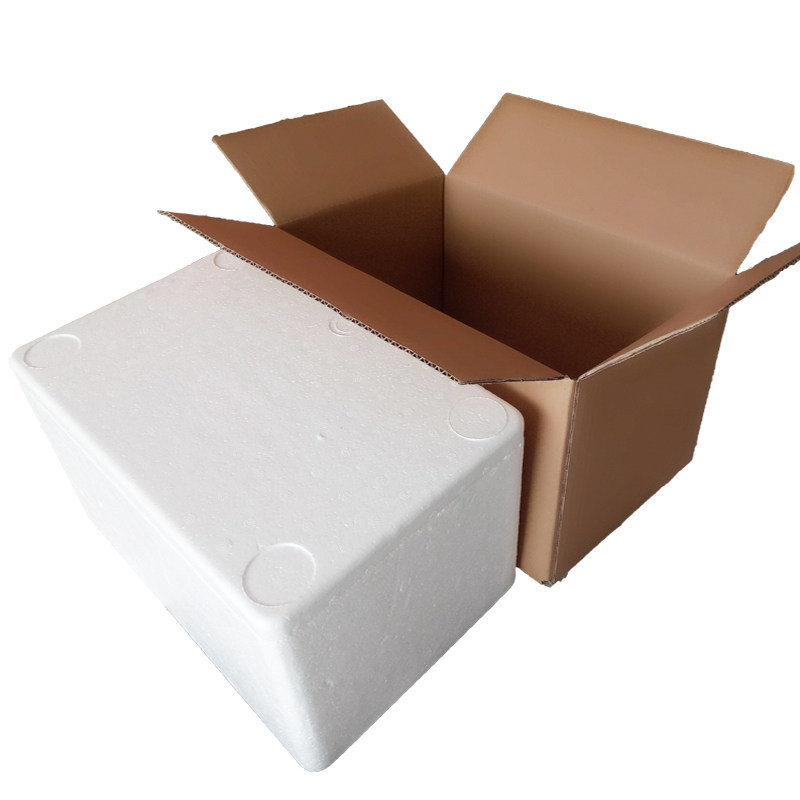泡沫箱: (14, 252, 524, 770)
